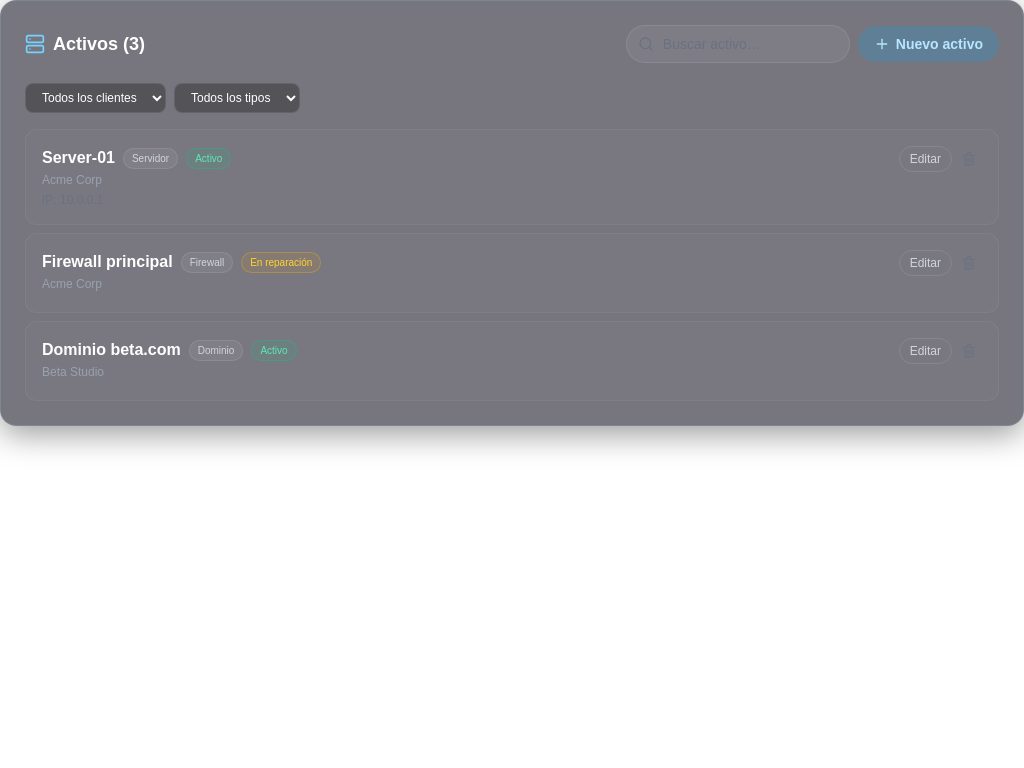
Scenario: AssetsSection › opens an inline edit form pre-filled with the asset
This screenshot has width=1024, height=768.
Click the button "Editar" in the row of "Servidor" at (925, 159), box [899,146,952,172]
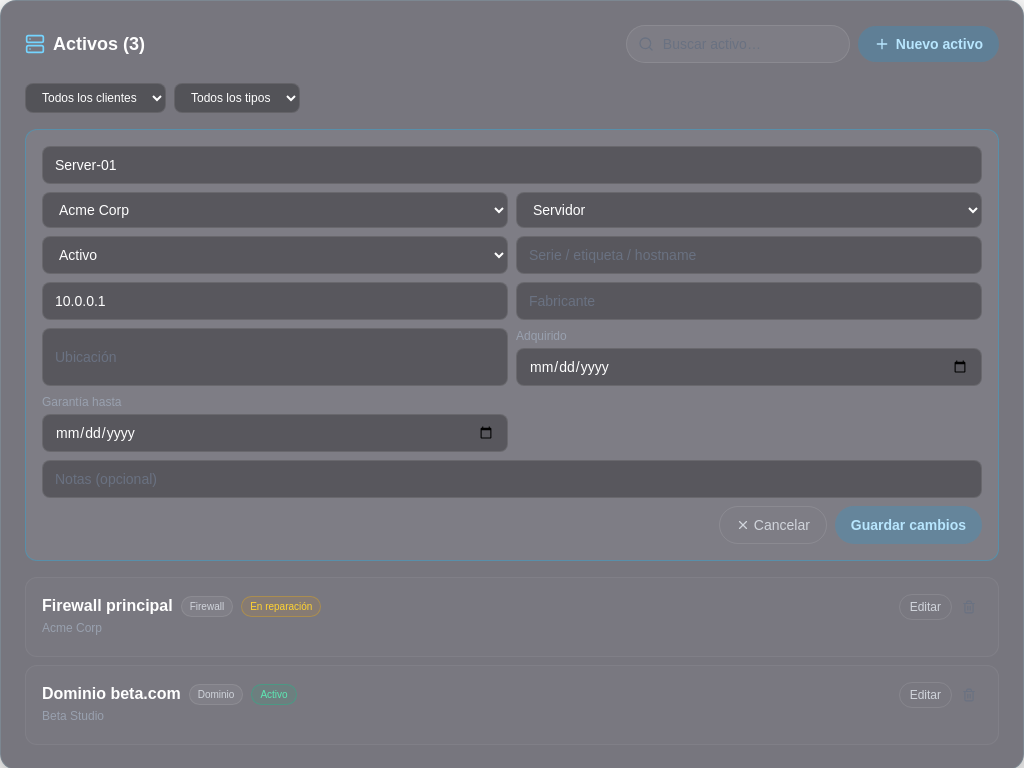
Expected: the 1st field showing "Server-01" is shown, [42,146,982,184]
